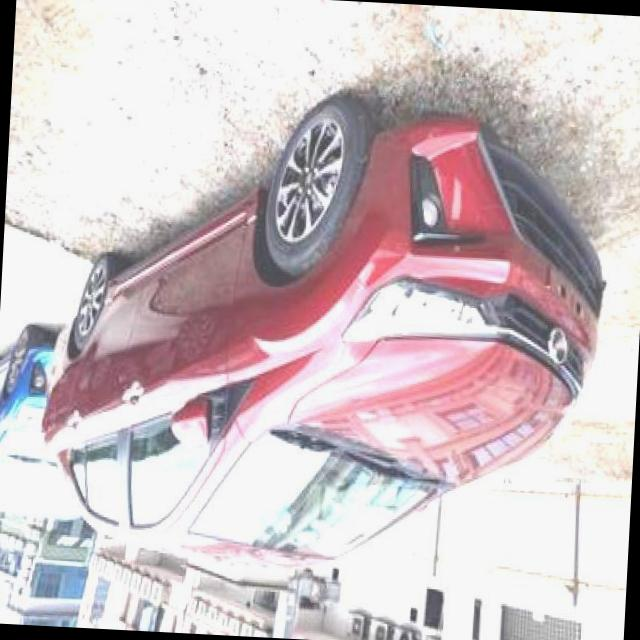PeroduaBezza: (33, 80, 616, 593)
